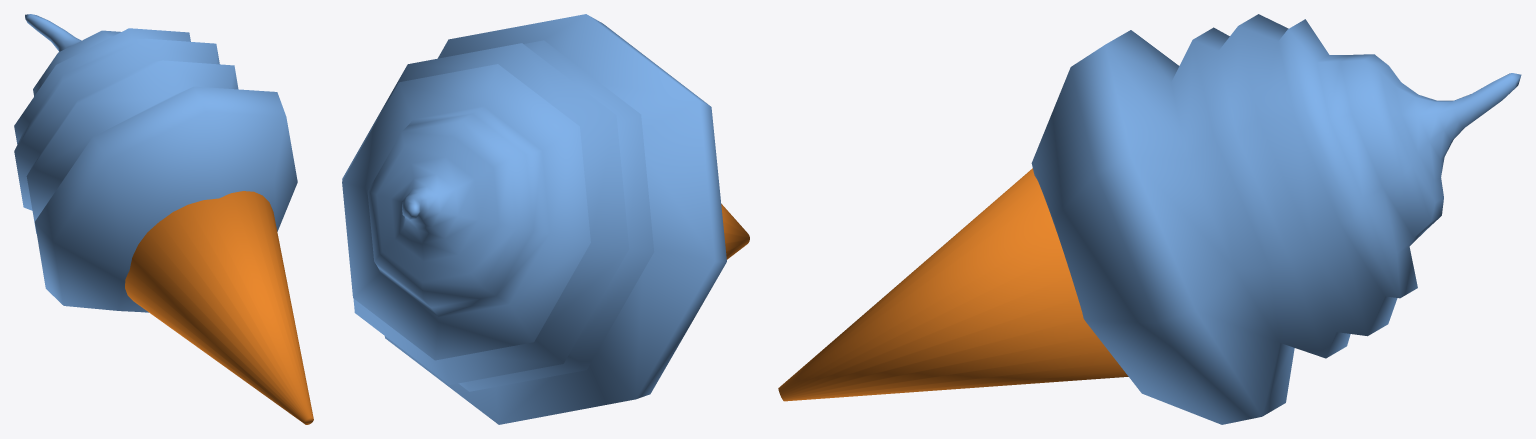
File: IceCream.fbx
The picture shows the model from 3 angles, left to right: view 1: azimuth 30°, elevation 25°; view 2: azimuth 150°, elevation 25°; view 3: azimuth 270°, elevation 25°; orthographic projection. The views are drawn at different scales.
Visible parts, largest first — view 1: icecream; view 2: icecream; view 3: icecream.
Boxes of the visible parts, left/top/right/bottom form: icecream: left=14, top=14, right=313, bottom=424; icecream: left=342, top=14, right=749, bottom=424; icecream: left=778, top=14, right=1521, bottom=424.
Bounding box in the file's own units: 7.6 × 7.86 × 13.72.
